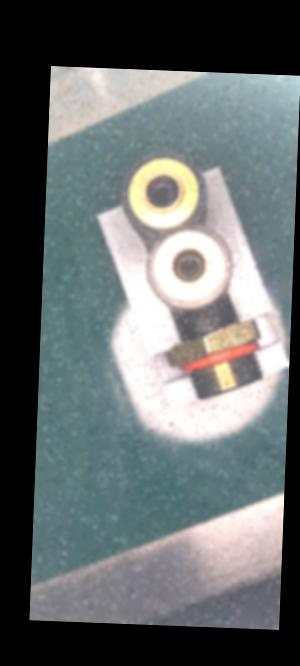craze: (205, 312, 213, 335)
